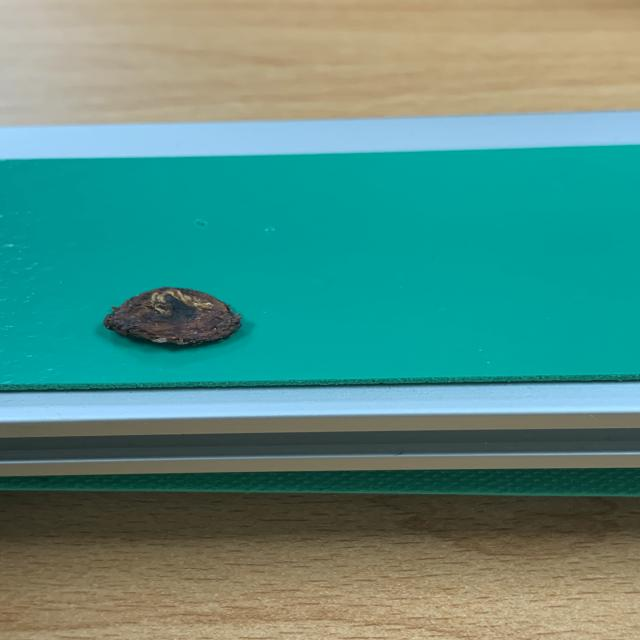Flat_cocoabeans: (67, 258, 291, 376)
